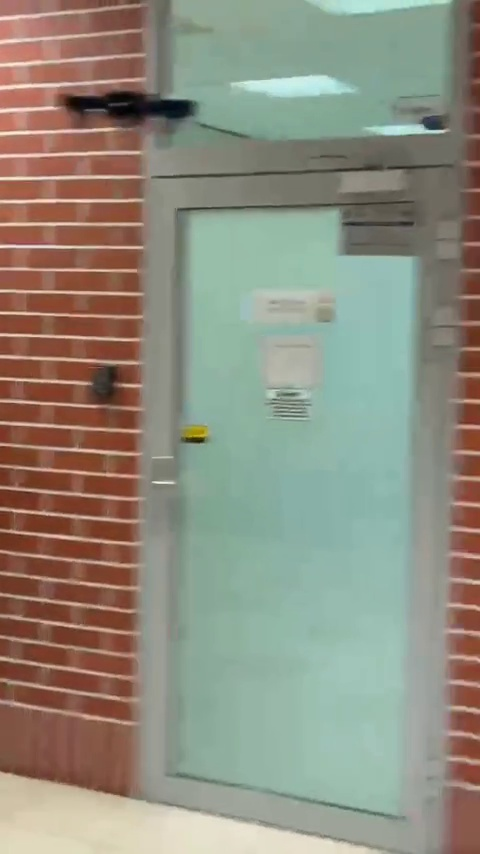drone: (59, 87, 200, 130)
